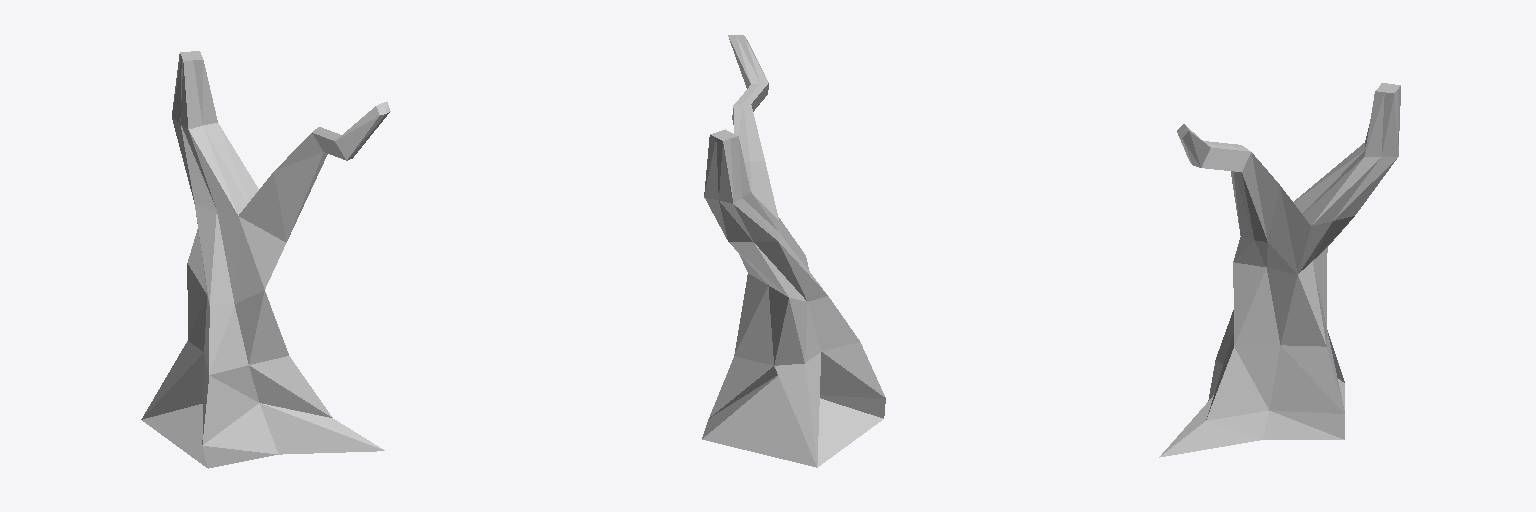
File: defoliated_tree_1.obj
3 views of the same model, side by side, from view 1: azimuth 30°, elevation 25°; view 2: azimuth 150°, elevation 25°; view 3: azimuth 270°, elevation 25° (orthographic).
Visible parts, largest first — view 1: Cube.460; view 2: Cube.460; view 3: Cube.460.
Boxes of the visible parts, <box> form: Cube.460: <box>141,51,390,468</box>; Cube.460: <box>702,35,885,467</box>; Cube.460: <box>1159,83,1400,457</box>.
Bounding box in the file's own units: 3.89 × 7.27 × 4.76.